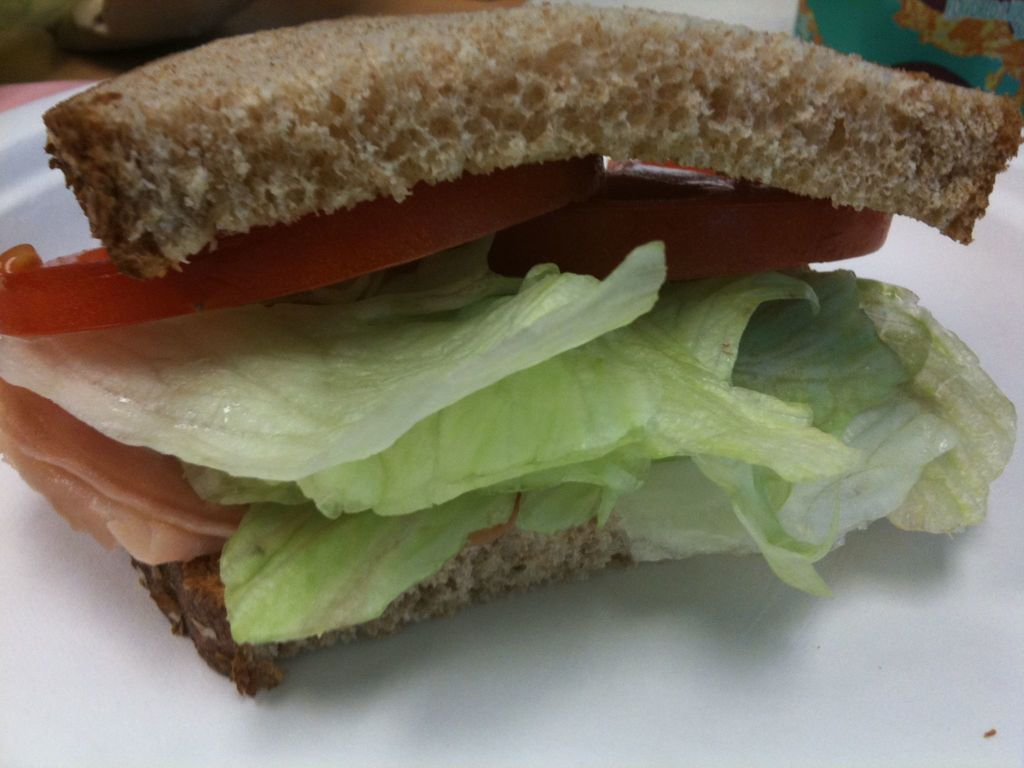sandwich: (0, 0, 1023, 701)
